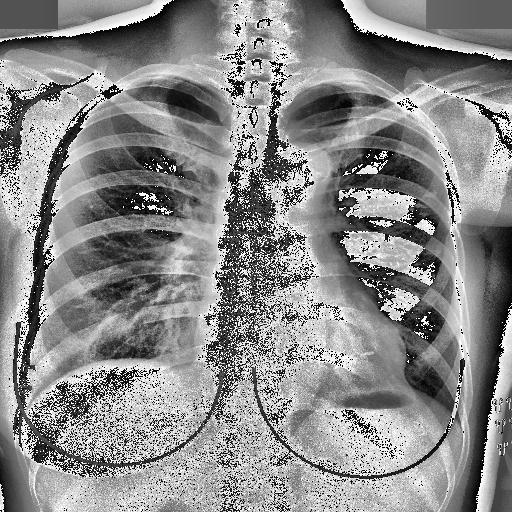0- Aortic enlargement: (256, 140, 333, 189), (267, 144, 330, 190)
13- Pulmonary fibrosis: (404, 186, 440, 216)
2- Calcification: (404, 186, 440, 216), (407, 190, 437, 218)
8- Nodule-Mass: (406, 190, 438, 218), (431, 273, 436, 278)
9- Other lesion: (406, 190, 438, 218)
